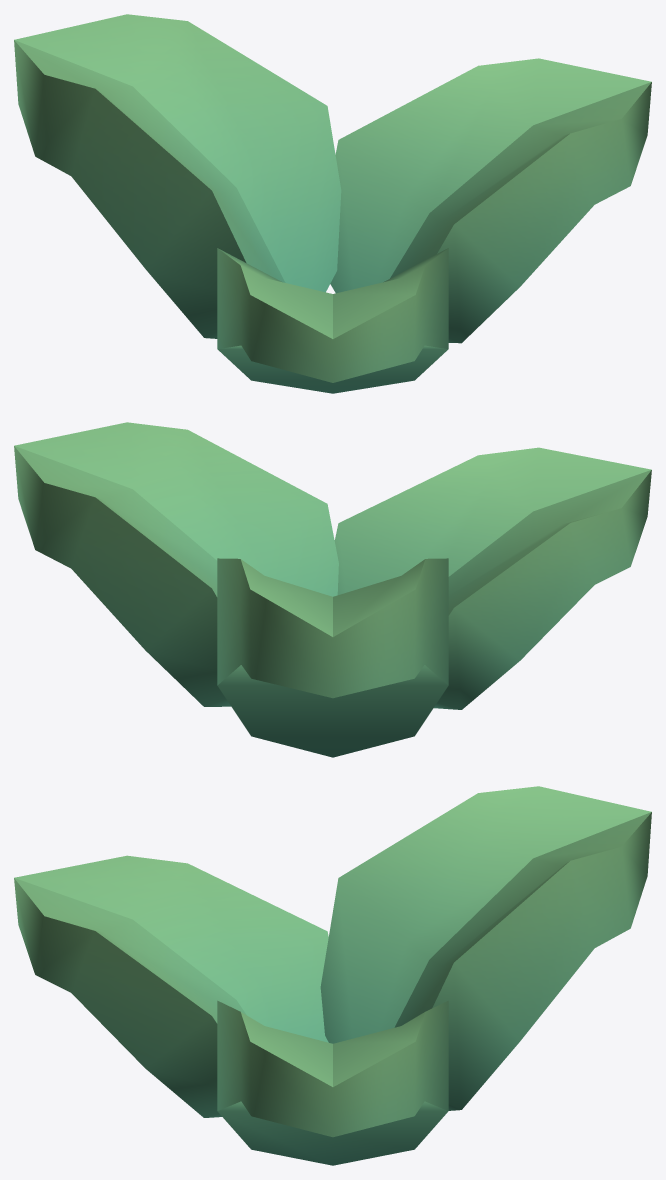
Rendered from plant.obj.
3 views of the same model, one above another, from view 1: azimuth 30°, elevation 25°; view 2: azimuth 150°, elevation 25°; view 3: azimuth 270°, elevation 25° (orthographic).
Parts seen in each view (by area): view 1: plant; view 2: plant; view 3: plant.
Boxes of the visible parts, x1=… form: plant: x1=14, y1=14, x2=651, y2=393; plant: x1=14, y1=422, x2=651, y2=757; plant: x1=14, y1=786, x2=651, y2=1165.
Bounding box in the file's own units: 0.3964 × 0.1919 × 0.4305.
1 material, 1 textured.
